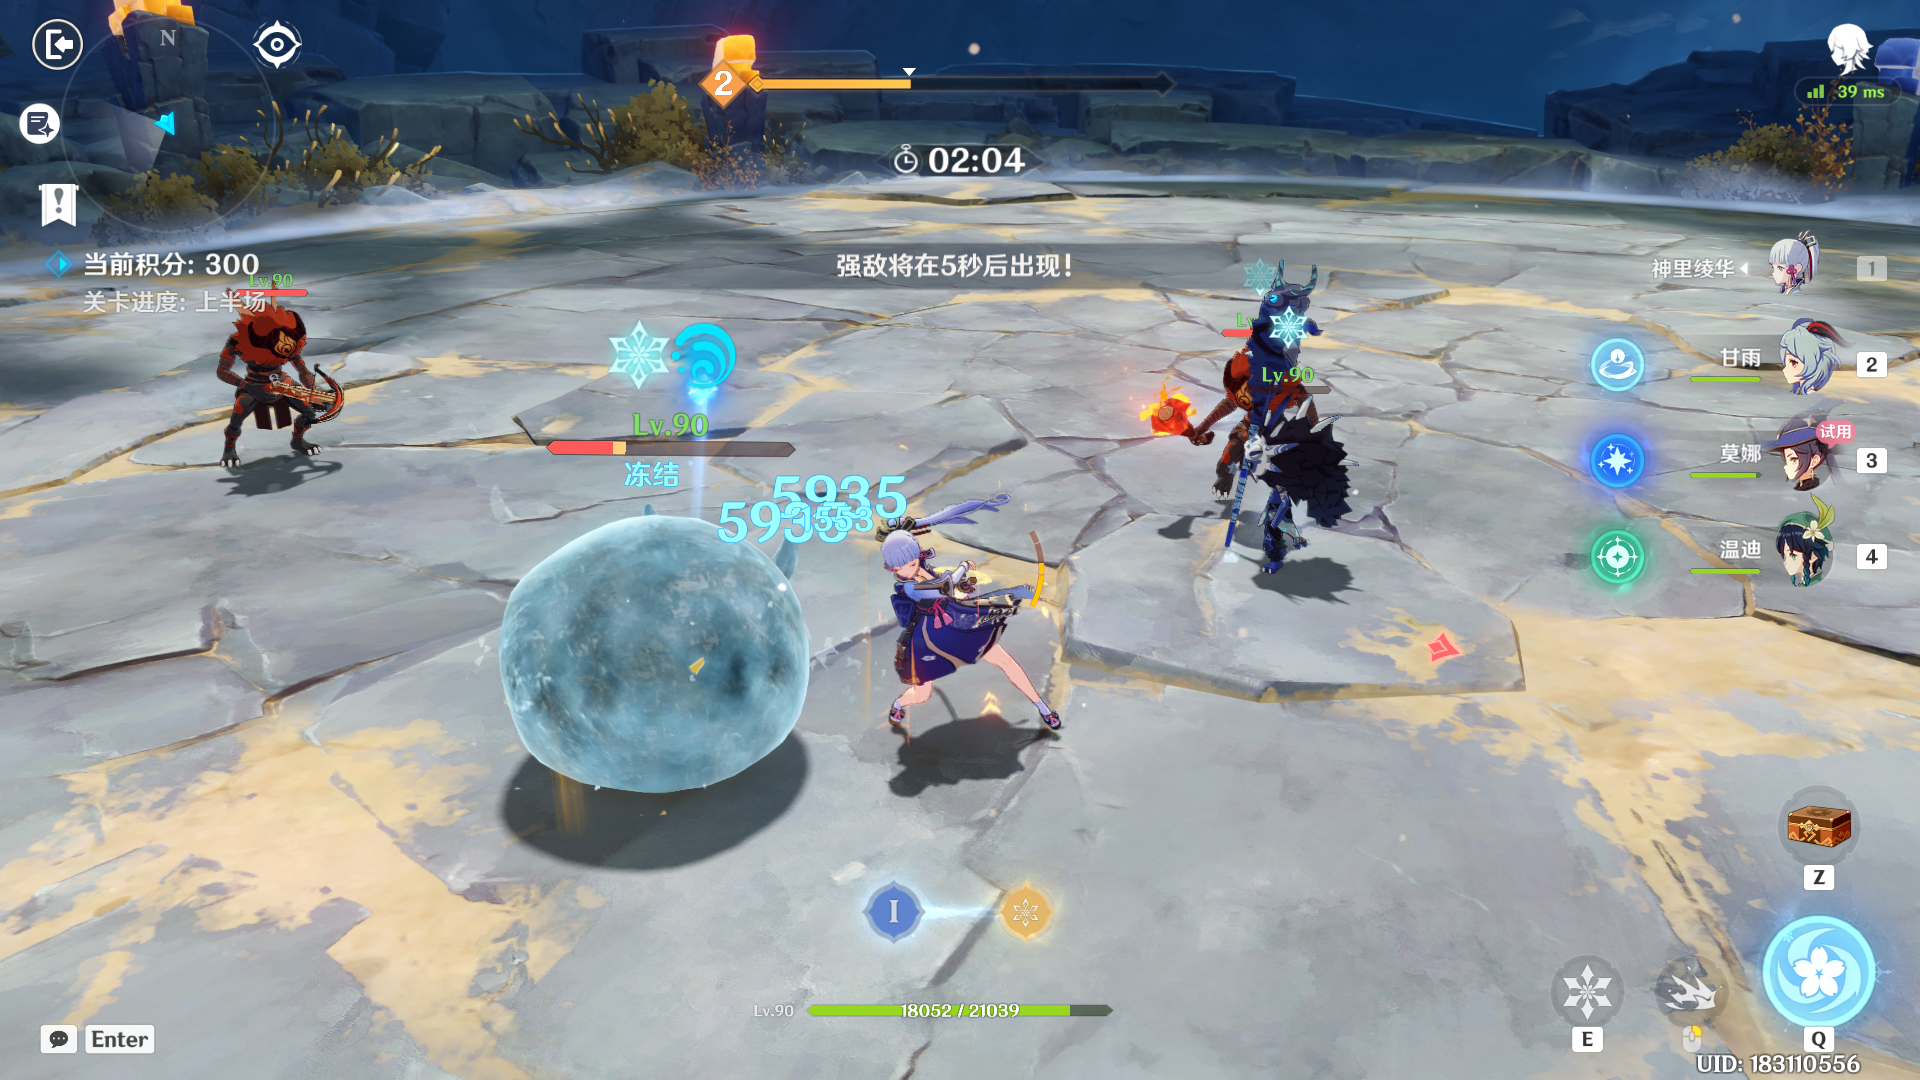character: (836, 488, 1109, 799)
hili: (1208, 262, 1367, 563), (1151, 314, 1337, 520), (215, 287, 367, 505)
slime: (495, 465, 816, 799)
